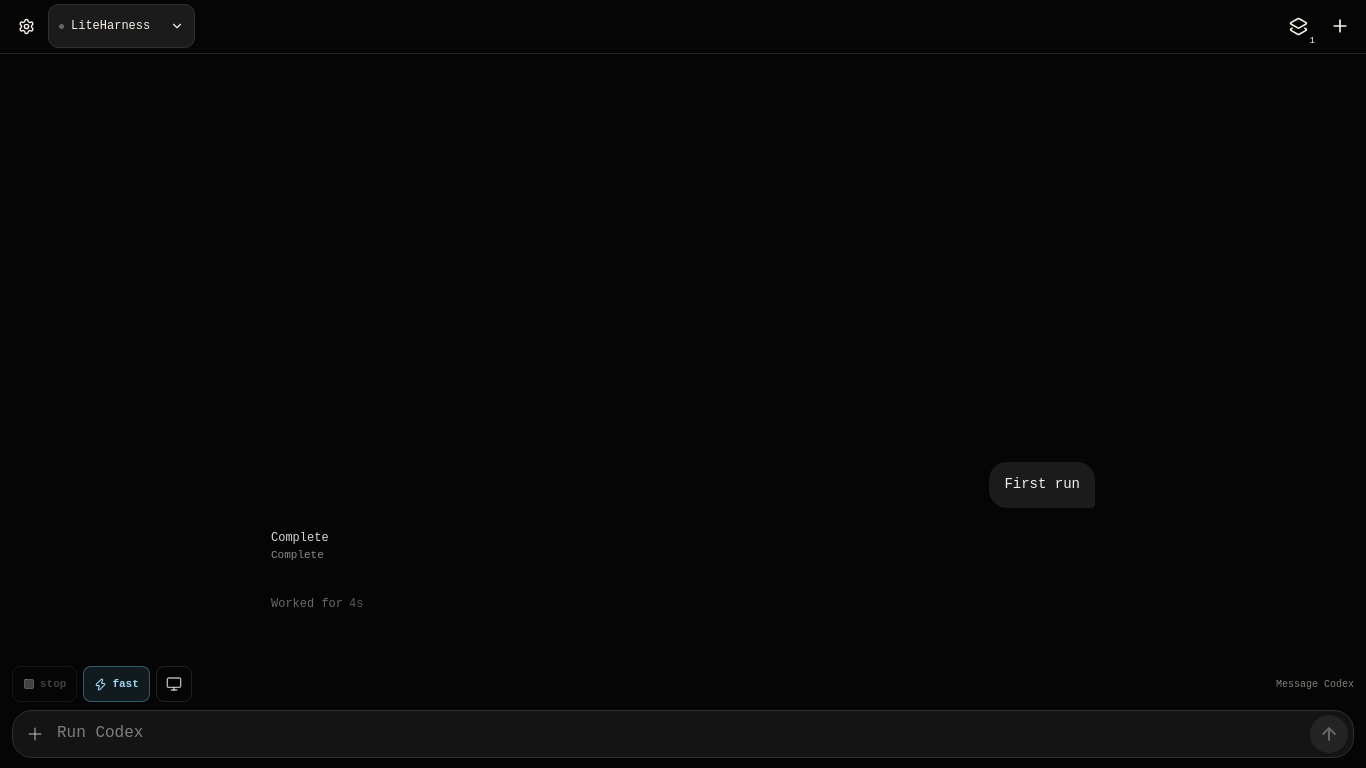
Test: MobileShell › does not render a separator when a new run starts after existing timeline content
This screenshot has width=1366, height=768.
expect the text "First run" is shown: met, box [1004,474,1080,496]
Type "Second run" into the text box named "Prompt". click: (683,734)
box: [13,711,1353,757]
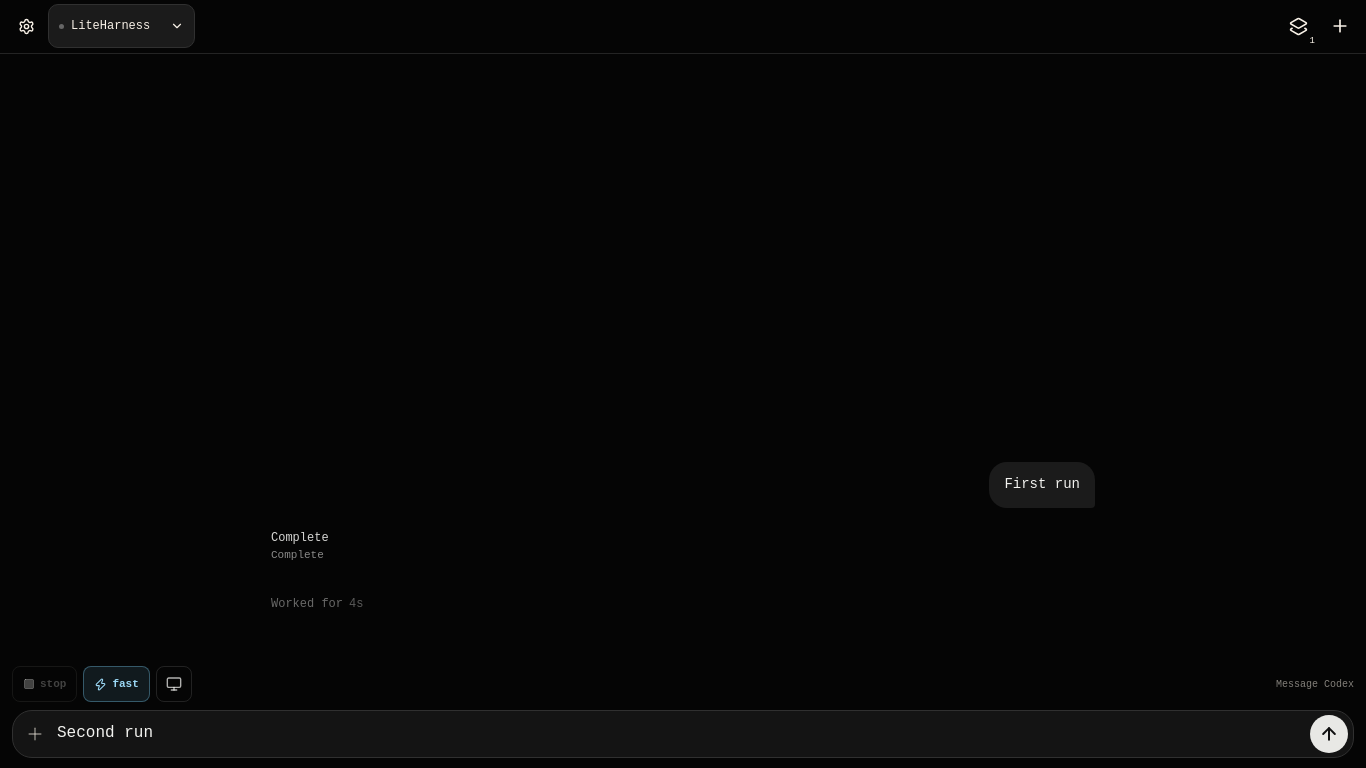
Click the button named "Run". click: (1329,734)
box: [1310,715,1348,753]
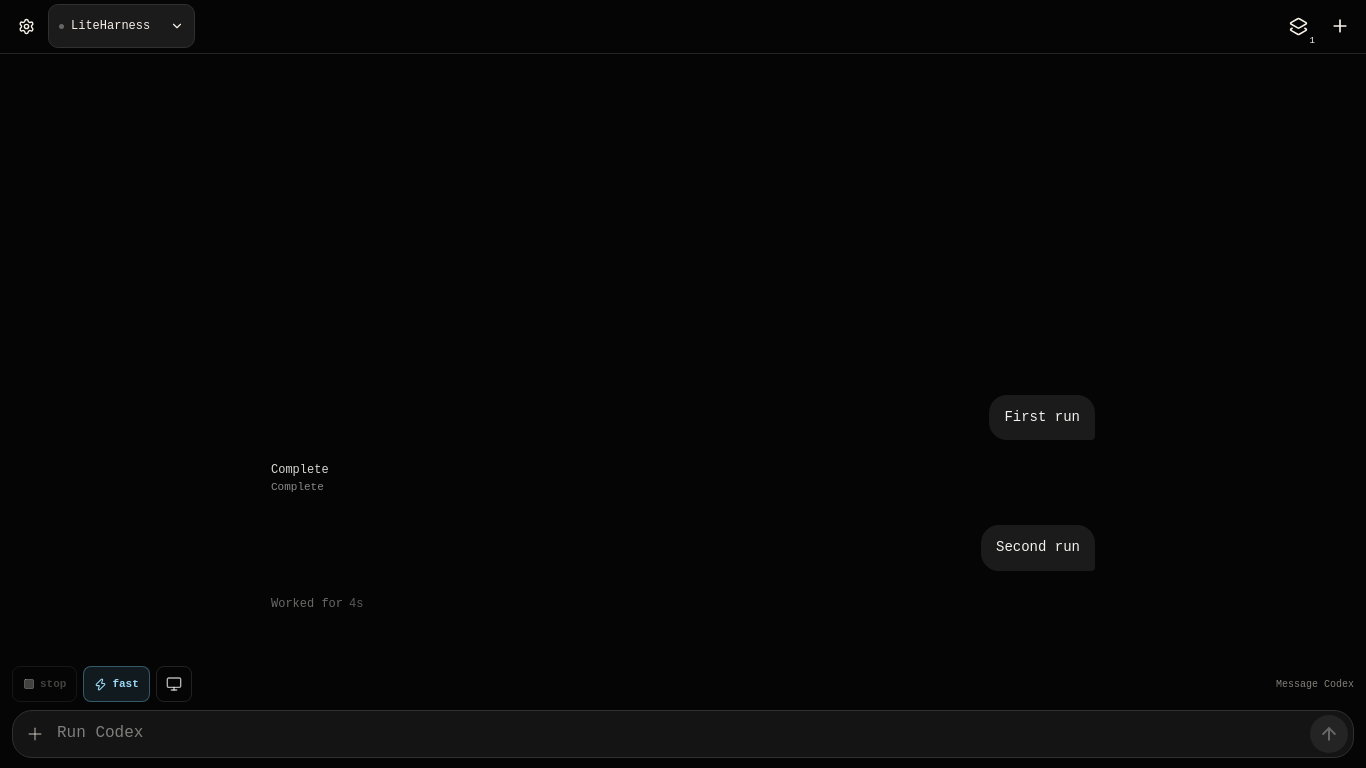
expect the text "Second run" is shown: met, box [996,537,1080,559]
